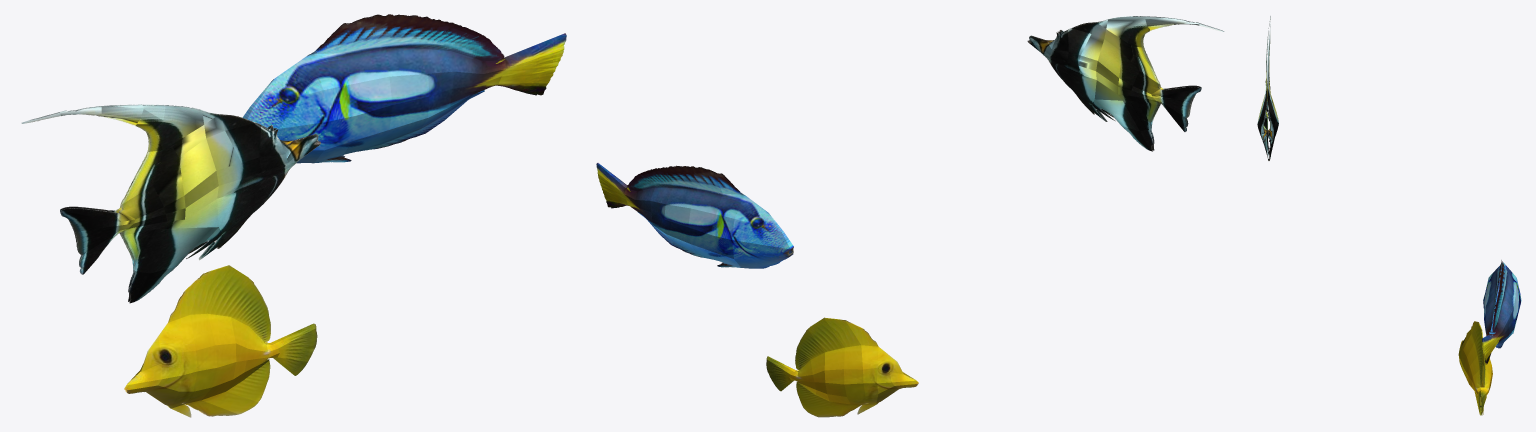
3 renders of one model, left to right at view 1: azimuth 30°, elevation 25°; view 2: azimuth 150°, elevation 25°; view 3: azimuth 270°, elevation 25°, orthographic. The views are drawn at different scales.
Visible parts, largest first — view 1: yu_1.001, yu_2_2.001, yu_2.001; view 2: yu_1.001, yu_2_2.001, yu_2.001; view 3: yu_1.001, yu_2.001, yu_2_2.001.
Part boxes in pixels (x1,y1,x2,y2): yu_1.001: (243, 14, 566, 163); yu_2_2.001: (21, 104, 320, 303); yu_2.001: (124, 265, 317, 417); yu_1.001: (596, 163, 793, 268); yu_2_2.001: (1027, 16, 1224, 151); yu_2.001: (766, 317, 918, 417); yu_1.001: (1482, 260, 1521, 364); yu_2.001: (1458, 321, 1492, 415); yu_2_2.001: (1257, 16, 1278, 160).
Bounding box in the file's own units: 918 × 631 × 516.
3 materials, 3 textured.
